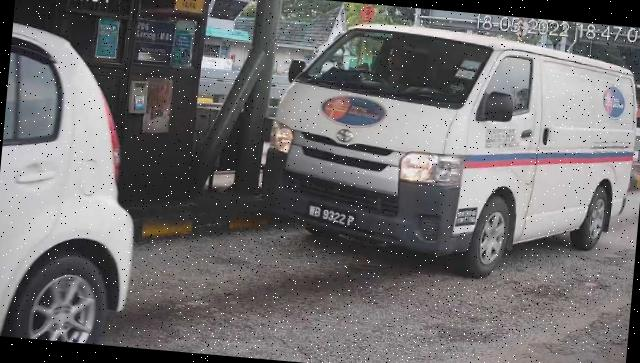License_Plate: (307, 202, 358, 230)
van: (256, 16, 640, 292)
